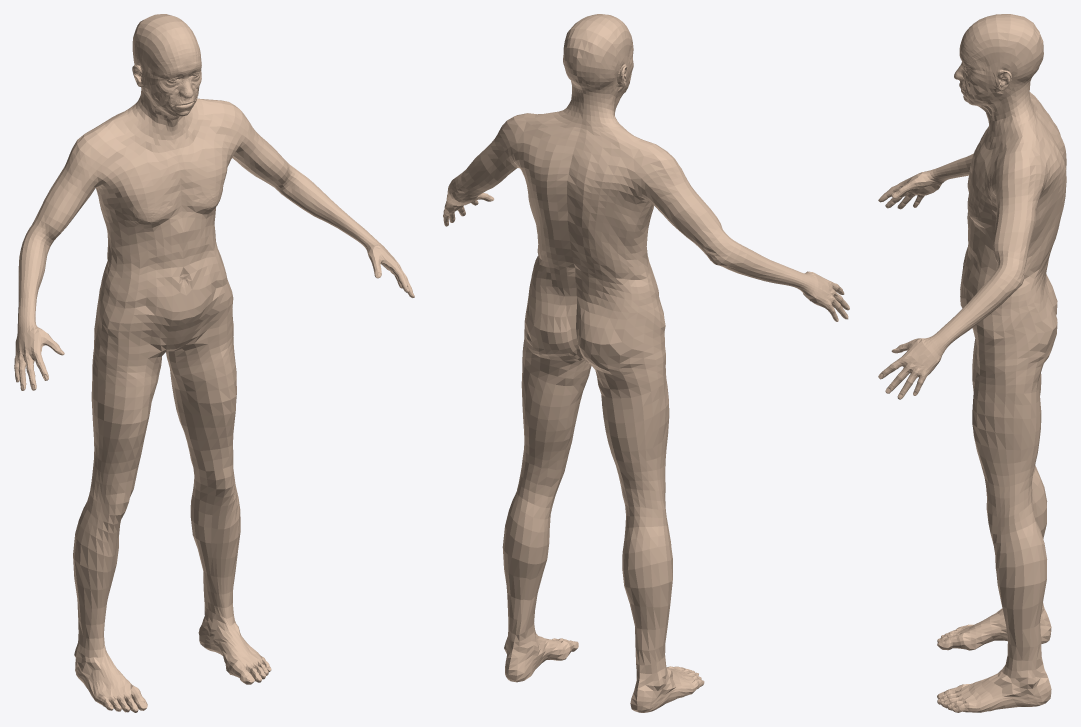
The model's file is male-elder-fit-high.glb.
3 renders of one model, left to right at view 1: azimuth 30°, elevation 25°; view 2: azimuth 150°, elevation 25°; view 3: azimuth 270°, elevation 25°, orthographic.
Visible parts, largest first — view 1: world; view 2: world; view 3: world.
Boxes of the visible parts, x1,y1,x2,y2 form: world: (14, 14, 414, 712); world: (443, 14, 849, 712); world: (878, 14, 1066, 712).
Size of the model in its own units: 1.2 by 1.92 by 0.4985.
